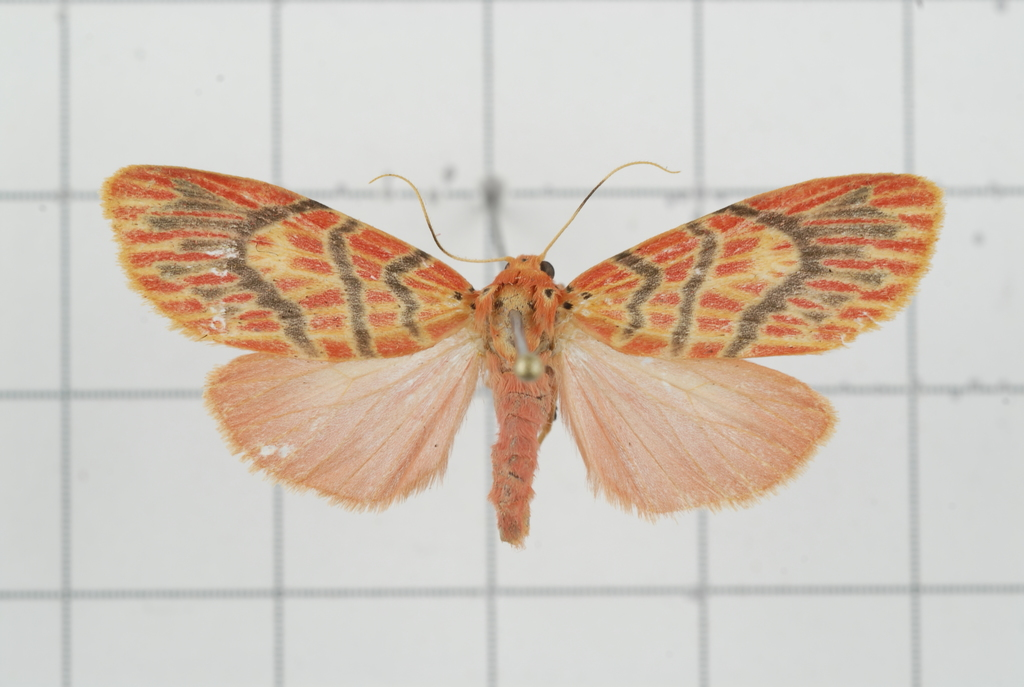Butterfly: (99, 162, 943, 549)
